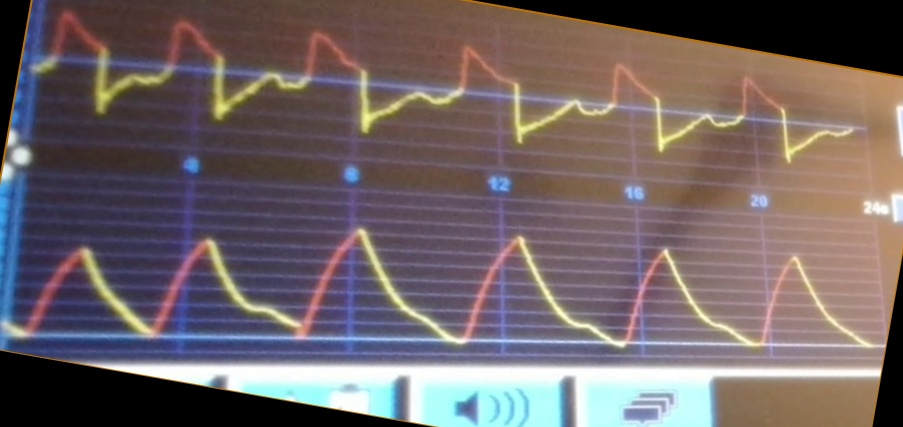Ineffective_effort Flow: (39, 8, 853, 165)
Ineffective_effort Volume: (12, 225, 869, 353)
